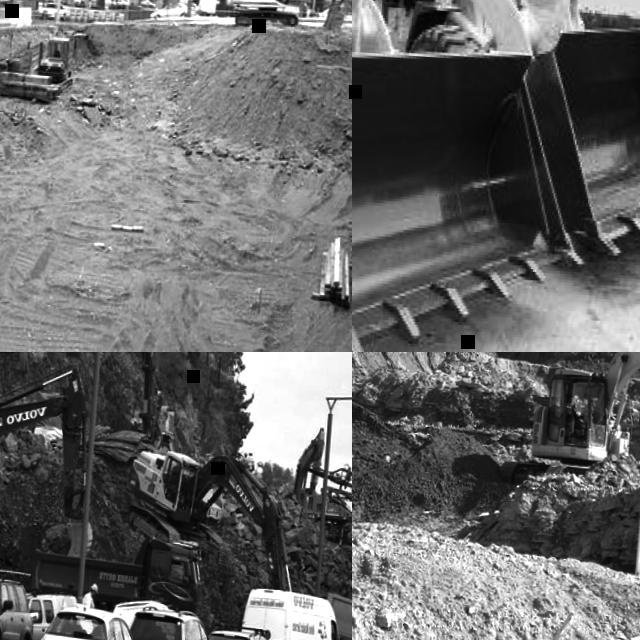Hardhat: (92, 584, 100, 593), (175, 465, 180, 471), (259, 460, 264, 465), (244, 450, 248, 455), (249, 450, 254, 454), (238, 450, 242, 454)
NO-Mask: (91, 593, 97, 598)
Person: (82, 583, 99, 608), (169, 464, 180, 484), (247, 450, 256, 470), (255, 460, 265, 476), (236, 450, 244, 462), (244, 450, 249, 462)
Safety Cone: (83, 9, 89, 23), (75, 9, 81, 23), (69, 10, 76, 22), (104, 11, 111, 21), (114, 11, 120, 21), (93, 11, 99, 21)
Safety Vest: (83, 593, 98, 609), (169, 466, 178, 482), (247, 456, 255, 469), (255, 466, 265, 474), (236, 454, 242, 461), (244, 456, 247, 462)
machinery: (352, 0, 622, 352), (352, 0, 640, 306), (107, 447, 304, 593), (0, 352, 106, 589), (499, 352, 640, 495), (29, 529, 206, 617), (289, 424, 352, 547), (127, 352, 188, 450), (0, 25, 78, 101), (222, 0, 352, 38)
vehicle: (237, 586, 352, 640), (32, 604, 150, 640), (124, 605, 225, 640), (19, 591, 79, 640), (113, 598, 172, 629), (149, 0, 193, 20), (42, 1, 68, 20)
